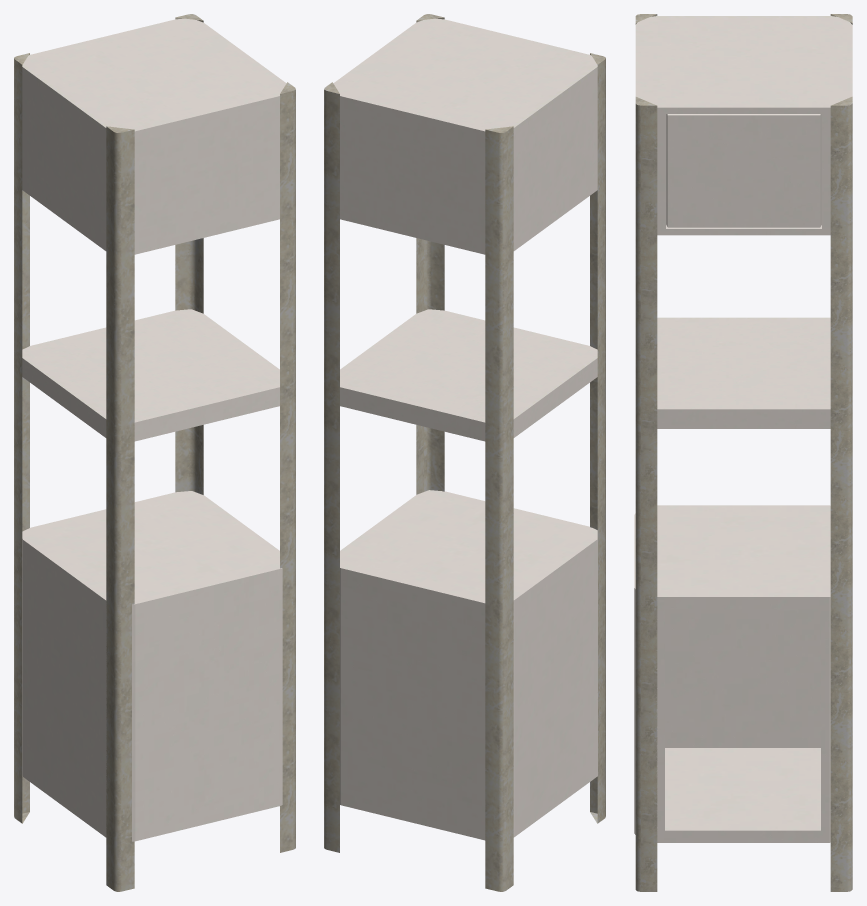
Rendered from shelf5.glb.
3 views of the same model, side by side, from view 1: azimuth 30°, elevation 25°; view 2: azimuth 150°, elevation 25°; view 3: azimuth 270°, elevation 25° (orthographic). The views are drawn at different scales.
Visible parts, largest first — view 1: Plane.013; view 2: Plane.013; view 3: Plane.013.
Boxes of the visible parts, x1,y1,x2,y2 form: Plane.013: [14, 14, 295, 891]; Plane.013: [324, 14, 605, 891]; Plane.013: [634, 14, 852, 891].
Bounding box in the file's own units: 0.5 × 2 × 0.5026.
Materials: 2 (2 with a texture image).
